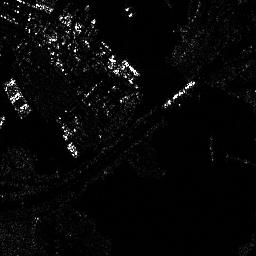ship: (161, 79, 197, 109)
